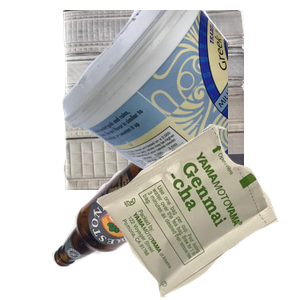glass: (49, 145, 229, 300)
paper: (60, 10, 300, 190)
plastic: (60, 10, 300, 190)
trash: (91, 124, 300, 300)
